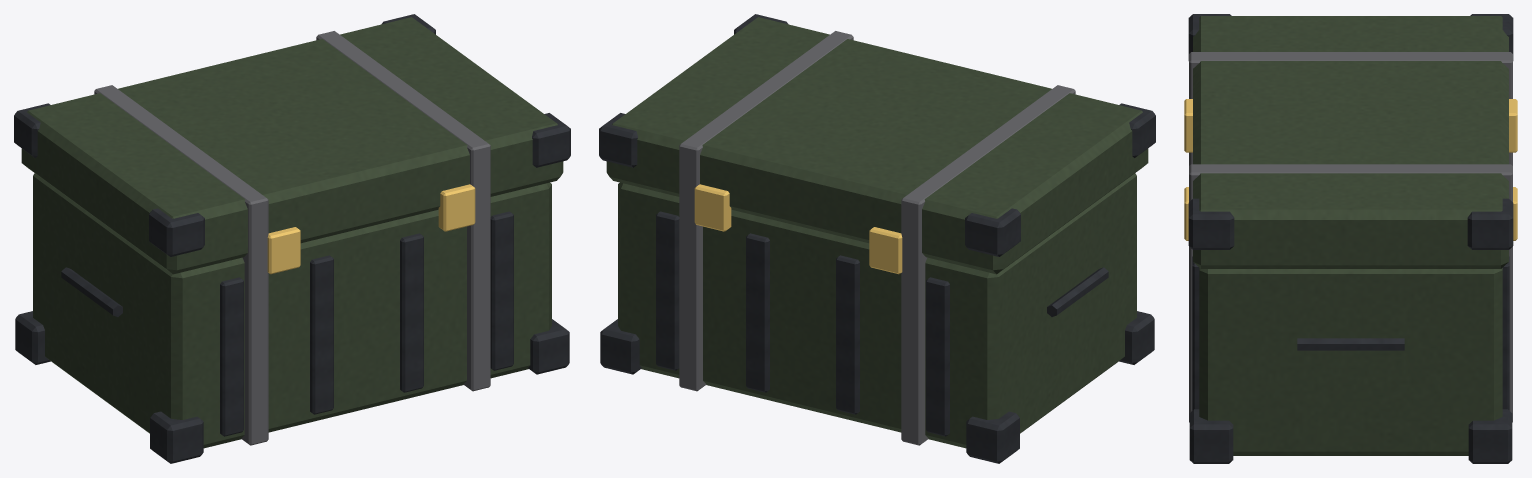
Rendered from real_blender_crate.glb.
The picture shows the model from 3 angles, left to right: view 1: azimuth 30°, elevation 25°; view 2: azimuth 150°, elevation 25°; view 3: azimuth 270°, elevation 25°; orthographic projection. The views are drawn at different scales.
Parts seen in each view (by area): view 1: Battle Royale Airdrop Supply Crate; view 2: Battle Royale Airdrop Supply Crate; view 3: Battle Royale Airdrop Supply Crate.
Boxes of the visible parts, left/top/right/bottom form: Battle Royale Airdrop Supply Crate: left=14, top=14, right=570, bottom=463; Battle Royale Airdrop Supply Crate: left=599, top=14, right=1155, bottom=463; Battle Royale Airdrop Supply Crate: left=1184, top=14, right=1517, bottom=463.
Bounding box in the file's own units: 1.4 × 0.7922 × 0.9495.
Materials: 4 (2 with a texture image).
